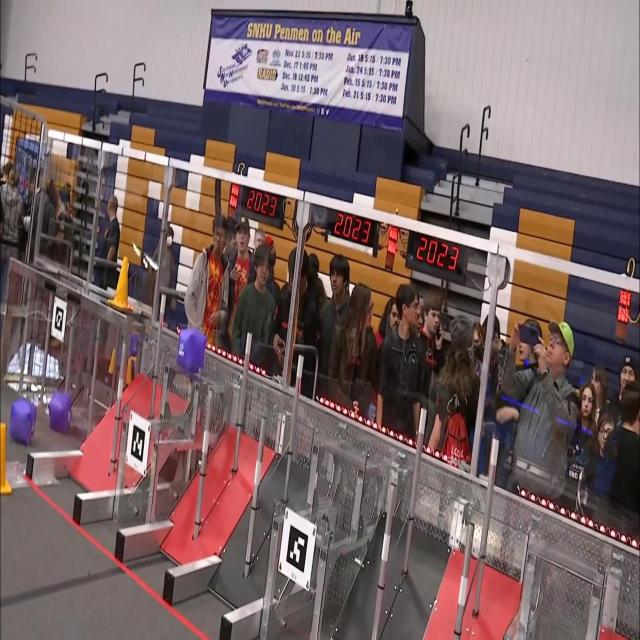frc_cone: (107, 254, 132, 312), (0, 421, 16, 496), (108, 347, 118, 375), (126, 356, 134, 382)
frc_cube: (177, 326, 208, 375), (9, 398, 36, 445), (49, 391, 73, 434), (129, 326, 140, 356)
